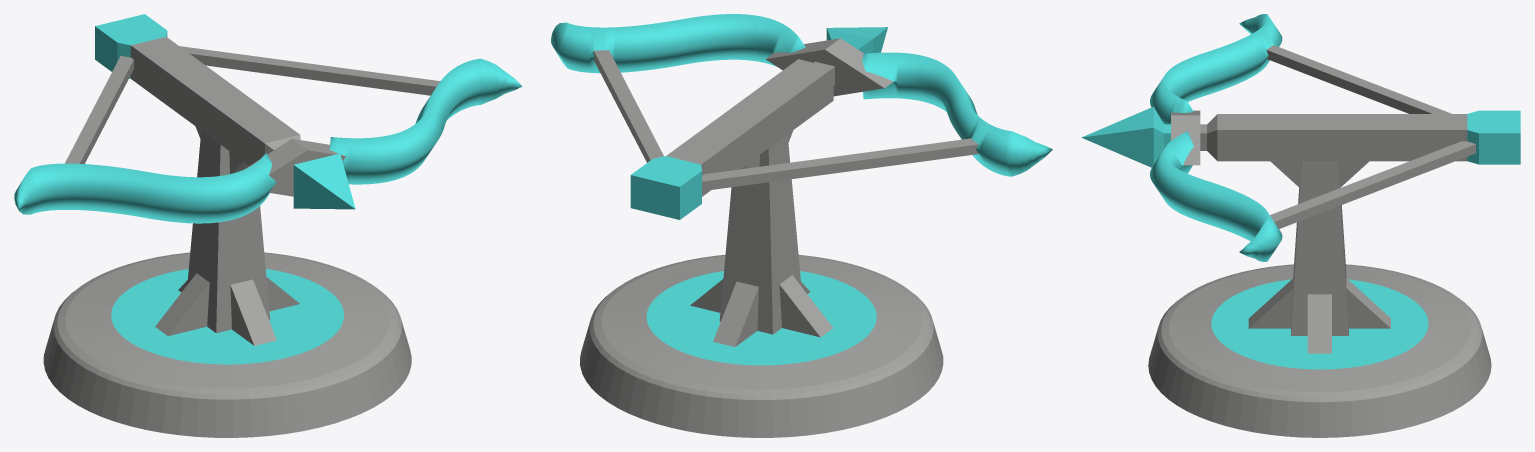
File: ballista_ice.fbx
The picture shows the model from 3 angles, left to right: view 1: azimuth 30°, elevation 25°; view 2: azimuth 150°, elevation 25°; view 3: azimuth 270°, elevation 25°; orthographic projection. The views are drawn at different scales.
Parts seen in each view (by area): view 1: Circle; view 2: Circle; view 3: Circle.
Part boxes in pixels (x1=…): Circle: x1=14, y1=14, x2=522, y2=437; Circle: x1=551, y1=14, x2=1052, y2=437; Circle: x1=1081, y1=14, x2=1520, y2=437.
Bounding box in the file's own units: 410 × 209 × 333.
1 material, 1 textured.
